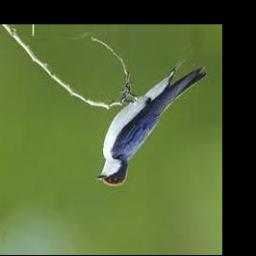Swallow: (94, 65, 208, 186)
